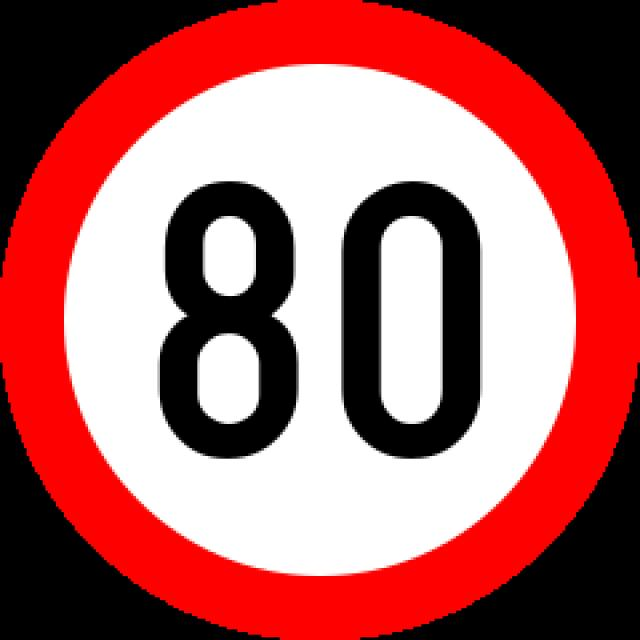Speed Limit -80-: (153, 178, 491, 461)
